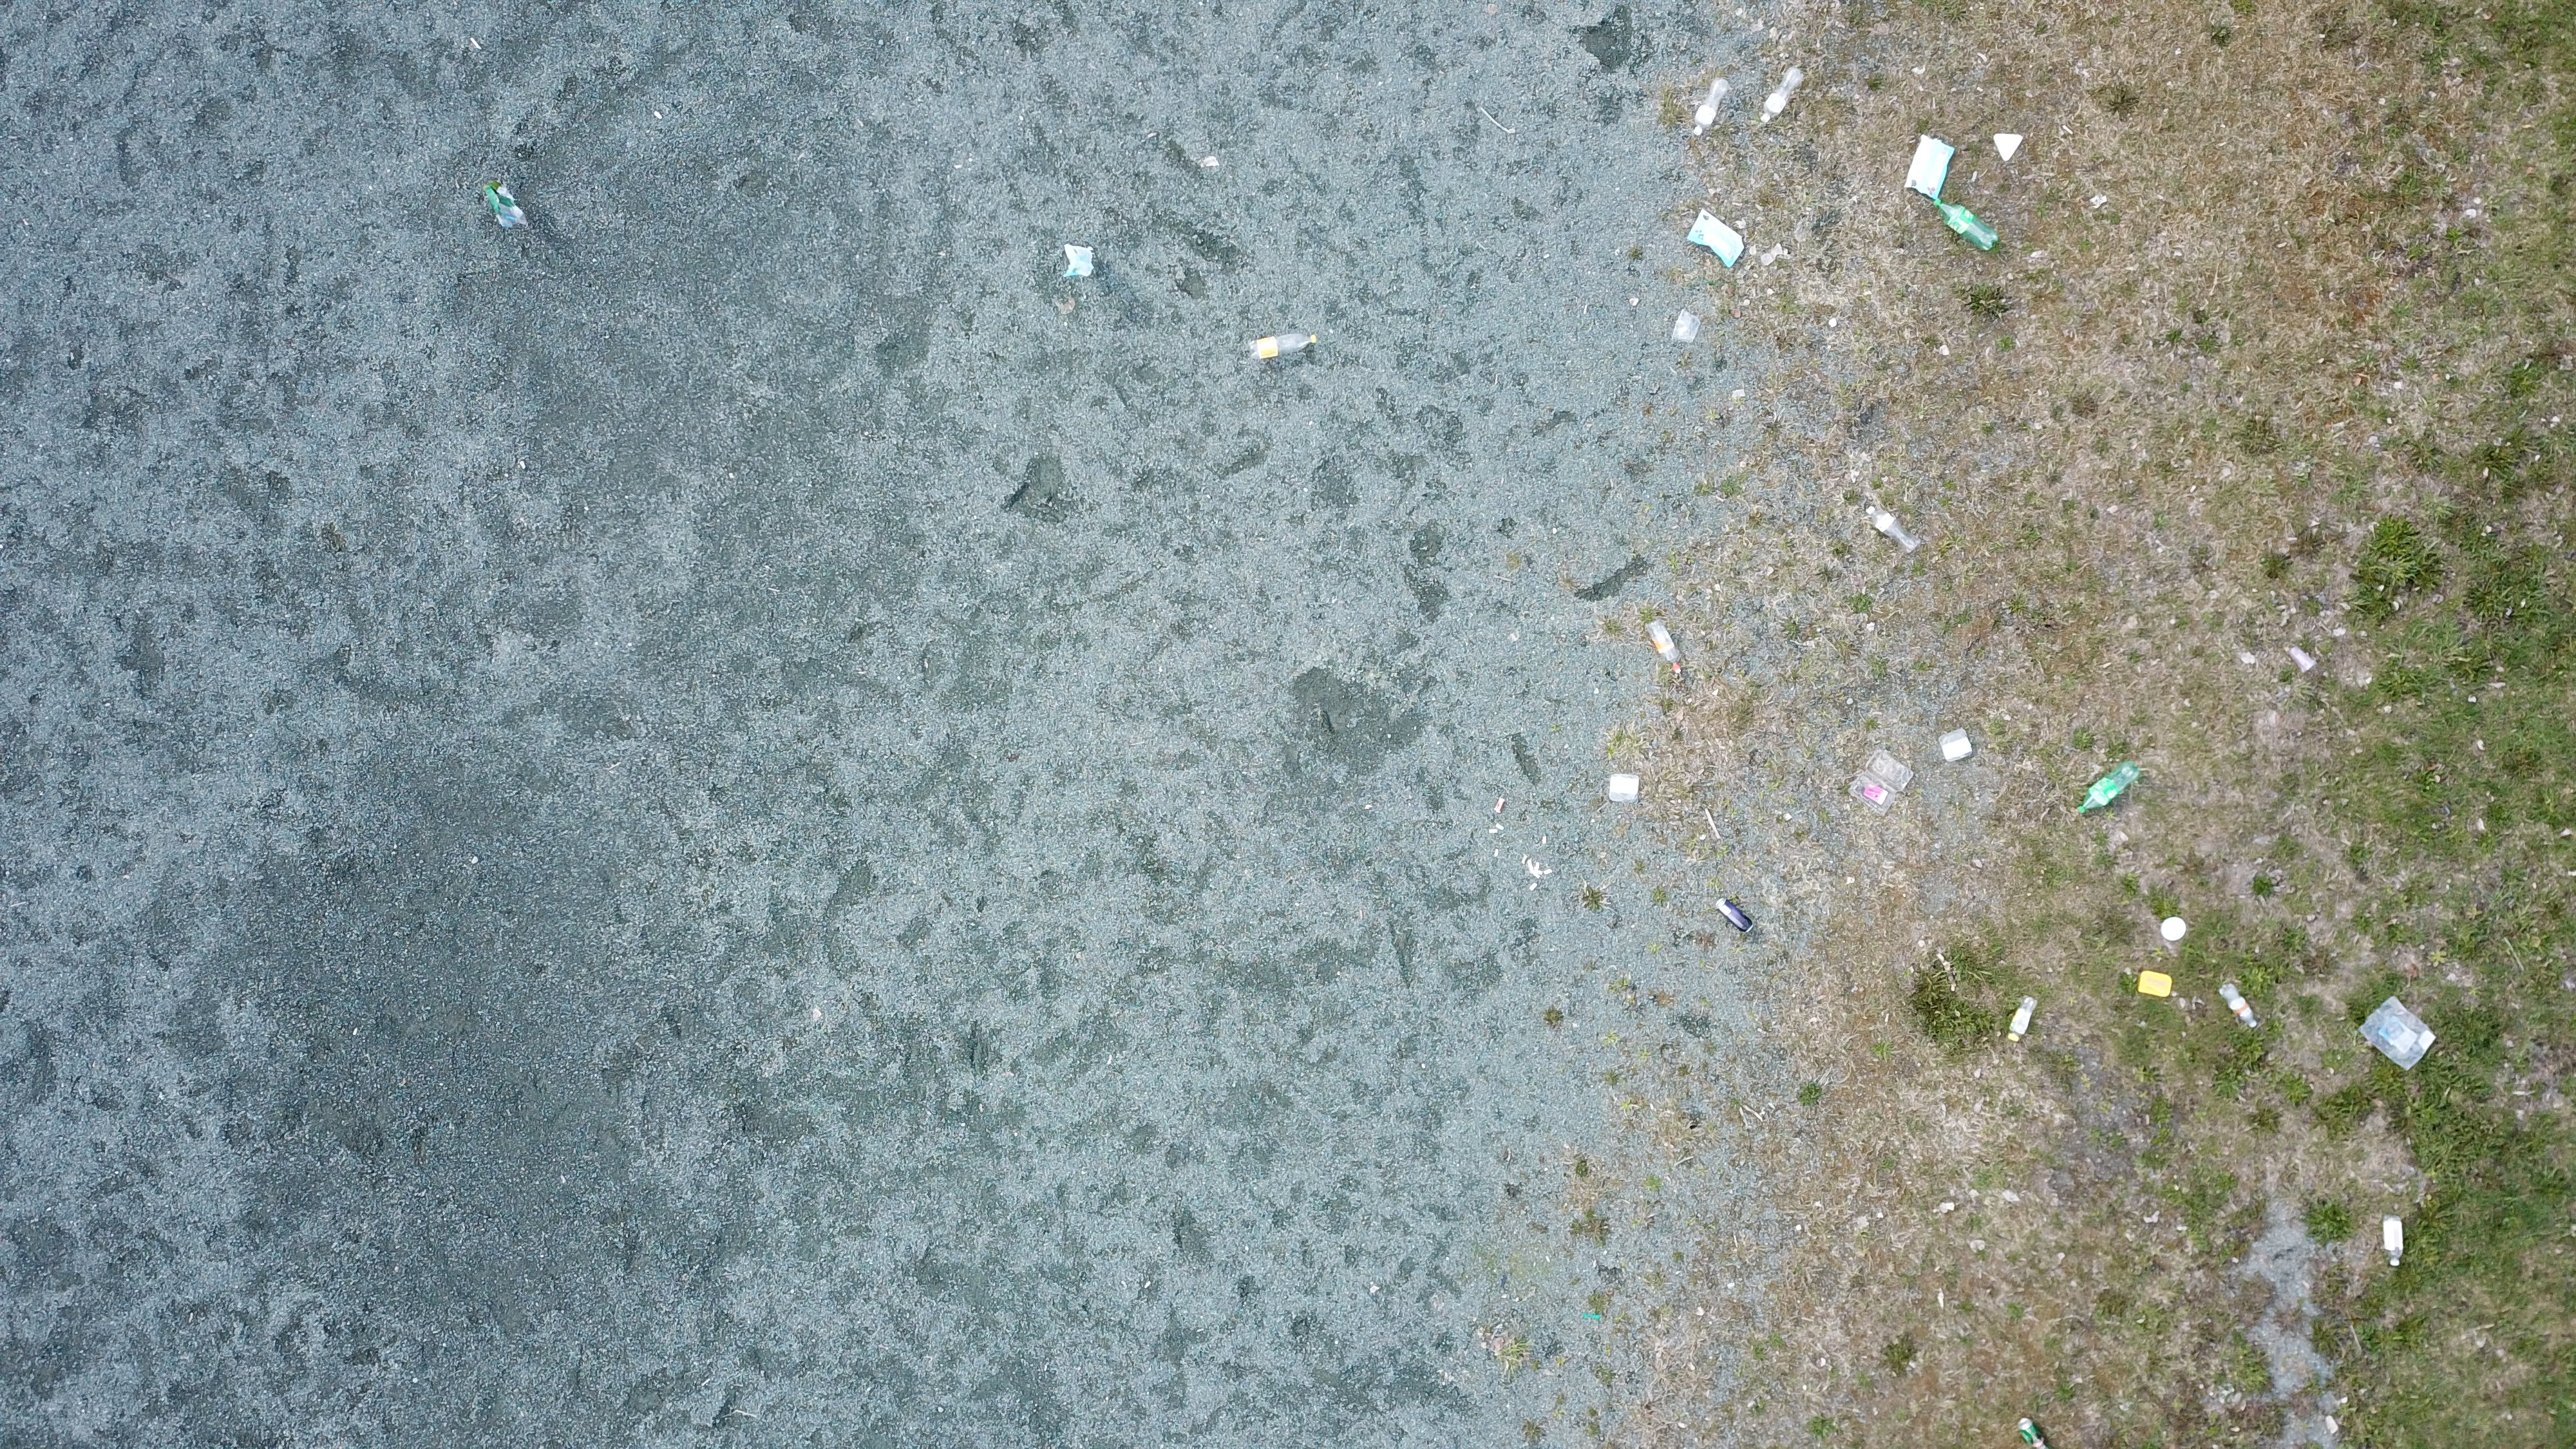Can: (1714, 897, 1755, 936), (2015, 1419, 2051, 1449)
Plastic: (2358, 993, 2436, 1072), (1847, 748, 1916, 817), (1683, 211, 1744, 267), (1905, 134, 1955, 202), (479, 182, 533, 234), (1668, 306, 1700, 349), (1606, 771, 1644, 807), (1939, 729, 1974, 764), (1062, 244, 1099, 278), (2137, 970, 2174, 1000), (1989, 133, 2024, 163), (2284, 646, 2318, 672), (2158, 916, 2190, 943), (1491, 796, 1506, 817)
PlasticBottle: (1932, 198, 2003, 253), (2075, 757, 2139, 817), (1863, 502, 1923, 554), (1759, 64, 1806, 127), (1244, 331, 1318, 363), (1691, 78, 1729, 138), (2217, 978, 2259, 1030), (1645, 617, 1683, 676), (2378, 1214, 2406, 1270), (2006, 993, 2035, 1046)
